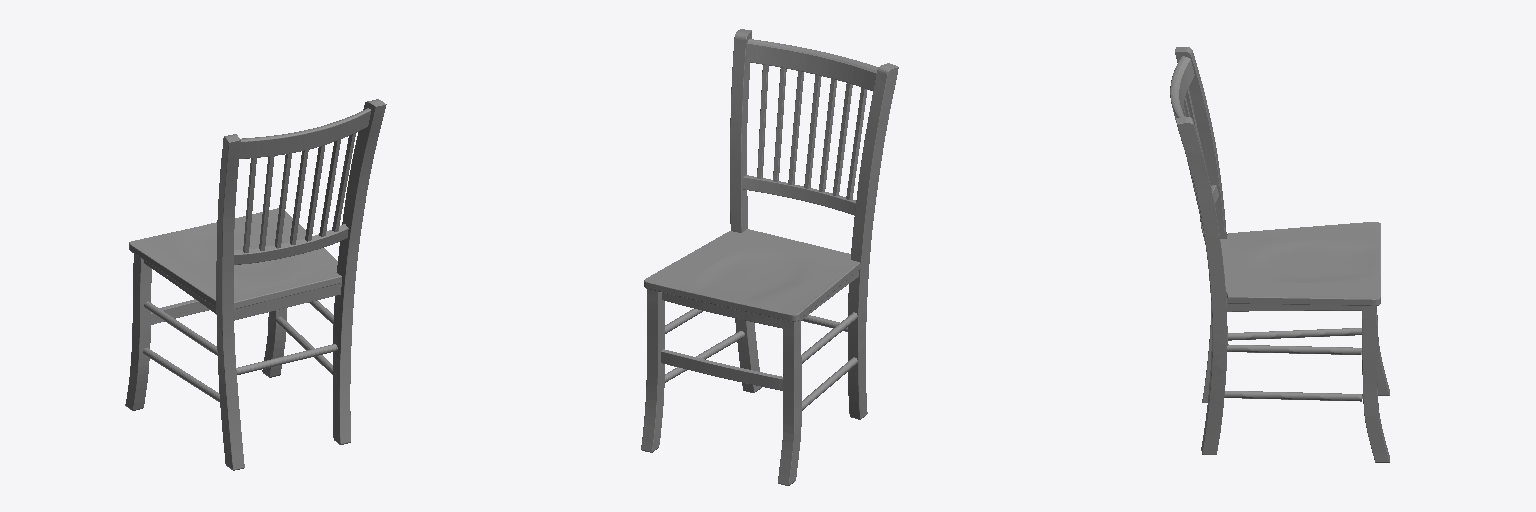
Rendered from silla.obj.
3 views of the same model, side by side, from view 1: azimuth 30°, elevation 25°; view 2: azimuth 150°, elevation 25°; view 3: azimuth 270°, elevation 25° (orthographic).
Visible parts, largest first — view 1: Ctrlart_ChairMDL_Chair_21; view 2: Ctrlart_ChairMDL_Chair_21; view 3: Ctrlart_ChairMDL_Chair_21.
Boxes of the visible parts, x1,y1,x2,y2 form: Ctrlart_ChairMDL_Chair_21: [125, 99, 386, 470]; Ctrlart_ChairMDL_Chair_21: [641, 29, 898, 485]; Ctrlart_ChairMDL_Chair_21: [1170, 47, 1389, 462].
Bounding box in the file's own units: 11.23 × 23.35 × 13.51.